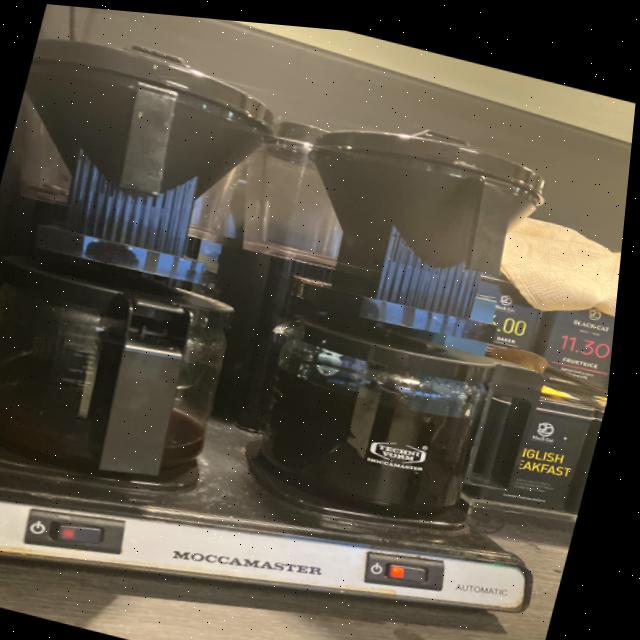coffee: (0, 228, 270, 485), (244, 295, 516, 530)
